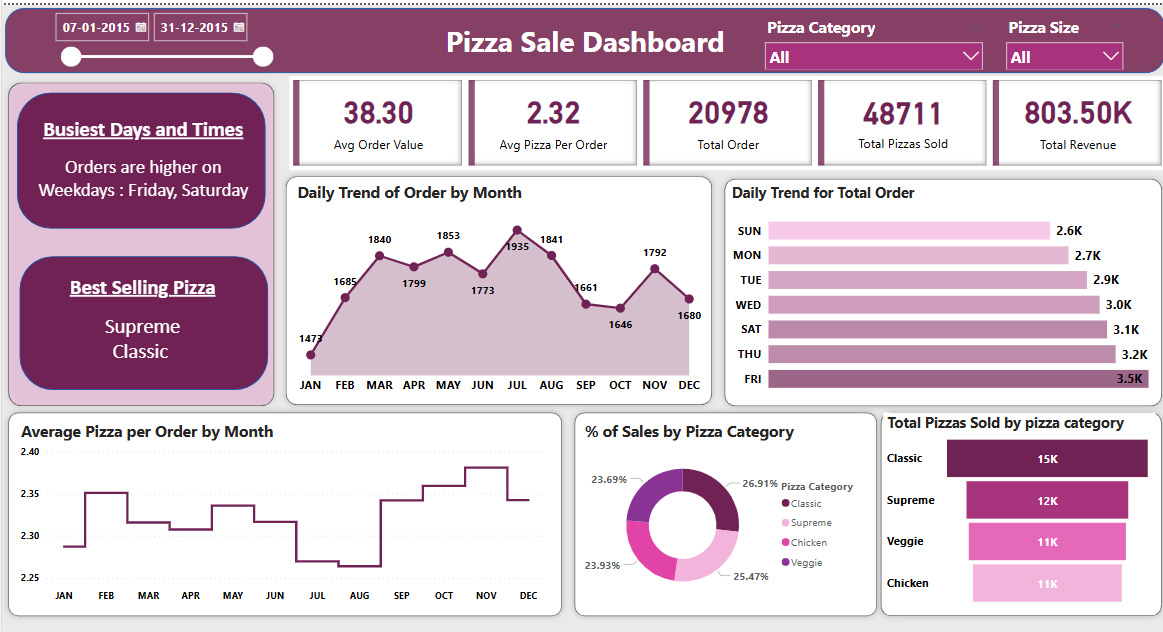

What the dashboard file says about the page in this screenshot:
{"tool":"powerbi","page":{"name":"Page 1","canvas":[1500,820],"ordinal":0},"visuals":[{"type":"cardVisual","fields":{"Data":["pizza_sales.Avg Order Value","pizza_sales.Avg Pizza Per Order","pizza_sales.Total Order","pizza_sales.Total Pizzas Sold","pizza_sales.Total Revenue"]},"box":[369.9,91.7,1130.5,120.6],"z":1000},{"type":"shape","box":[0,0,1500.3,91.7],"z":2000},{"type":"shape","box":[357,212.3,564.4,310.4],"z":3000},{"type":"columnChart","title":"Daily Trend for Total Order ","fields":{"Category":["pizza_sales.Order Day"],"Y":["pizza_sales.Total Order"]},"box":[371.5,221.9,537.1,283],"z":4000},{"type":"shape","box":[921.4,213.9,578.9,310.4],"z":5000},{"type":"areaChart","title":"Daily Trend of Order by Month","fields":{"Category":["pizza_sales.Name of Month"],"Y":["pizza_sales.Total Order"]},"box":[935.9,226.7,548.4,283],"z":6000},{"type":"shape","box":[358.6,516.2,392.4,278.2],"z":7000},{"type":"shape","box":[0,91.7,358.6,702.7],"z":7500},{"type":"donutChart","title":"% of Sales by Pizza Category","fields":{"Y":["pizza_sales.Total Revenue"],"Category":["pizza_sales.pizza_category"]},"box":[369.9,533.9,371.5,244.4],"z":8000},{"type":"shape","box":[1122.4,516.2,377.9,278.2],"z":9000},{"type":"shape","box":[741.3,516.2,392.4,278.2],"z":10000},{"type":"donutChart","title":"% of Sales by Pizza Size","fields":{"Y":["pizza_sales.Total Revenue"],"Category":["pizza_sales.pizza_size"]},"box":[749.4,533.9,371.5,244.4],"z":11000},{"type":"funnel","title":"Total Pizzas Sold by pizza category","fields":{"Category":["pizza_sales.pizza_category"],"Y":["pizza_sales.Total Pizzas Sold"]},"box":[1133.7,524.2,350.6,254.1],"z":12000},{"type":"textbox","box":[38.6,241.2,283,168.8],"z":13000},{"type":"slicer","fields":{"Values":["pizza_sales.pizza_category"]},"box":[1008.3,9.6,300.7,74],"z":13001},{"type":"slicer","fields":{"Values":["pizza_sales.order_date"]},"box":[180.1,0,300.7,83.6],"z":13002}]}

Visuals, with their boxes in screenshot pixels (x1, y1, x2, y2), scaled from the page's 1500x820 canvas onto the 1163x632 screenshot:
cardVisual - pizza_sales.Avg Order Value x pizza_sales.Avg Pizza Per Order: bbox=[287, 71, 1162, 164]
shape: bbox=[0, 0, 1162, 71]
shape: bbox=[277, 164, 714, 403]
"Daily Trend for Total Order " columnChart: bbox=[288, 171, 704, 389]
shape: bbox=[714, 165, 1162, 404]
"Daily Trend of Order by Month" areaChart: bbox=[726, 175, 1151, 393]
shape: bbox=[278, 398, 582, 612]
shape: bbox=[0, 71, 278, 612]
"% of Sales by Pizza Category" donutChart: bbox=[287, 411, 575, 600]
shape: bbox=[870, 398, 1162, 612]
shape: bbox=[575, 398, 879, 612]
"% of Sales by Pizza Size" donutChart: bbox=[581, 411, 869, 600]
"Total Pizzas Sold by pizza category" funnel: bbox=[879, 404, 1151, 600]
textbox: bbox=[30, 186, 249, 316]
slicer - pizza_sales.pizza_category: bbox=[782, 7, 1015, 64]
slicer - pizza_sales.order_date: bbox=[140, 0, 373, 64]
